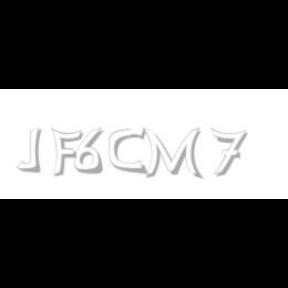6: (74, 128, 104, 176)
7: (210, 128, 248, 178)
C: (108, 128, 145, 174)
F: (50, 128, 82, 178)
J: (16, 128, 42, 172)
M: (142, 128, 202, 180)
